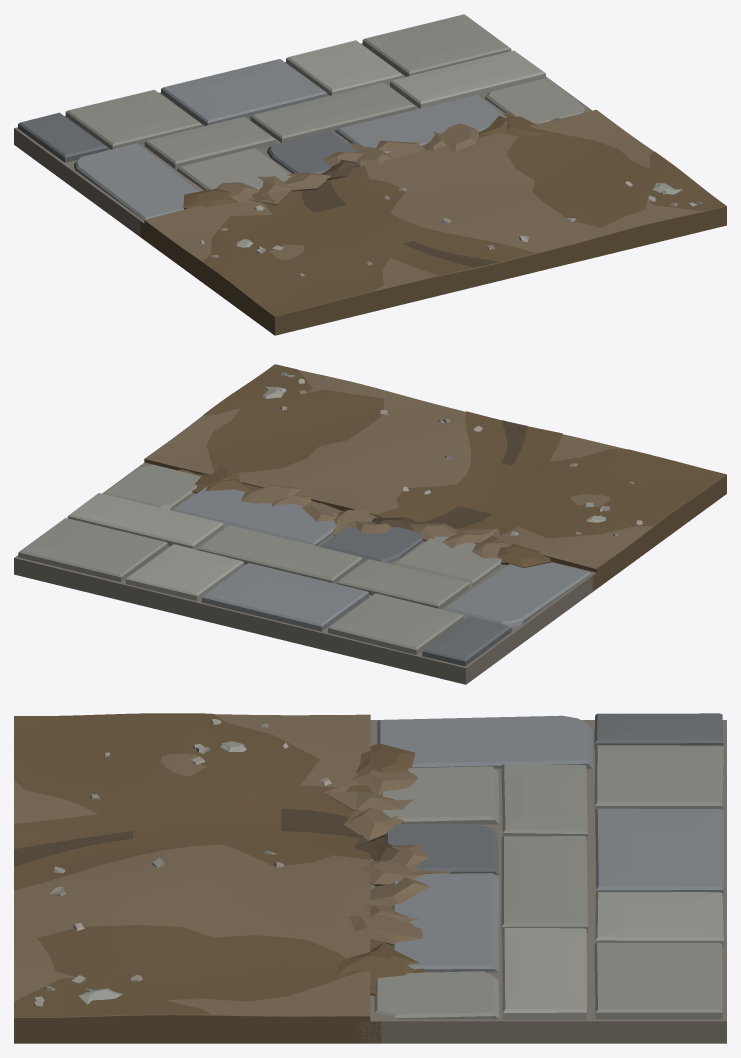
The model's file is SM_LPD_Floor_PavingJoinFlagDirt_01.fbx.
The picture shows the model from 3 angles, top to bottom: view 1: azimuth 30°, elevation 25°; view 2: azimuth 150°, elevation 25°; view 3: azimuth 270°, elevation 25°; orthographic projection. The views are drawn at different scales.
Visible parts, largest first — view 1: SM_LPD_Floor_PavingJoinFlagDirt_01; view 2: SM_LPD_Floor_PavingJoinFlagDirt_01; view 3: SM_LPD_Floor_PavingJoinFlagDirt_01.
Boxes of the visible parts, x1=… form: SM_LPD_Floor_PavingJoinFlagDirt_01: x1=14, y1=14, x2=726, y2=335; SM_LPD_Floor_PavingJoinFlagDirt_01: x1=14, y1=364, x2=726, y2=684; SM_LPD_Floor_PavingJoinFlagDirt_01: x1=14, y1=713, x2=726, y2=1043.
Bounding box in the file's own units: 4 × 0.2 × 4.
